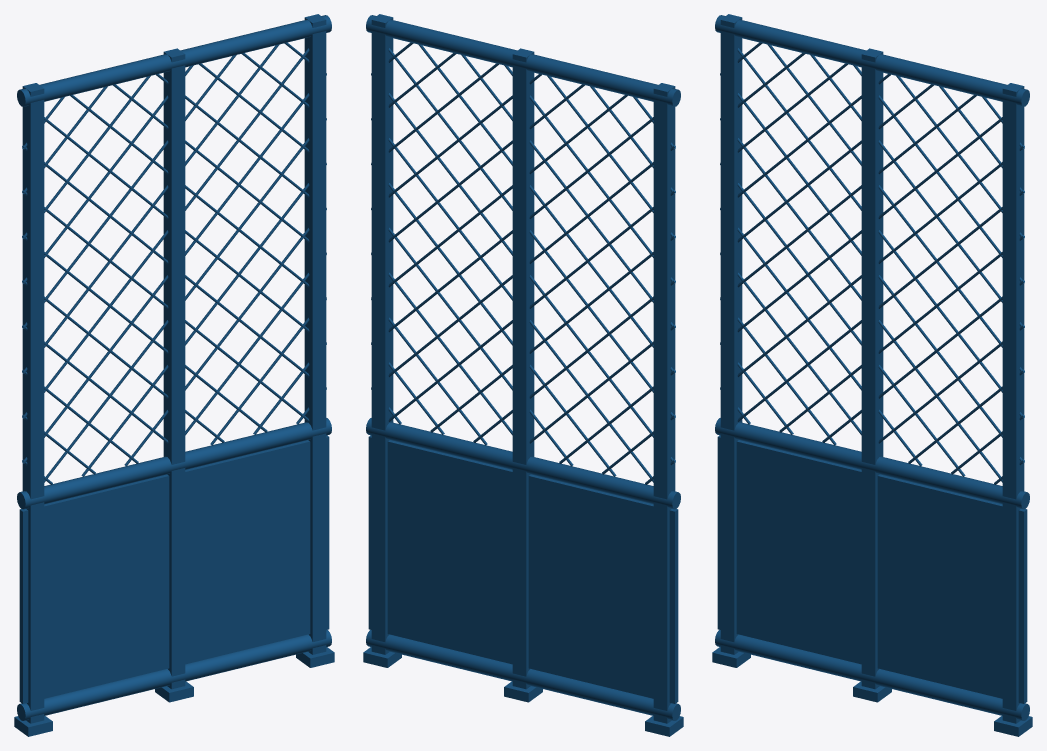
File: fence-steel-blue.glb
The picture shows the model from 3 angles, left to right: view 1: azimuth 30°, elevation 25°; view 2: azimuth 150°, elevation 25°; view 3: azimuth 330°, elevation 25°; orthographic projection.
Visible parts, largest first — view 1: FenceSteelBlue; view 2: FenceSteelBlue; view 3: FenceSteelBlue.
Boxes of the visible parts, x1,y1,x2,y2 form: FenceSteelBlue: (14, 14, 334, 736); FenceSteelBlue: (363, 14, 683, 736); FenceSteelBlue: (712, 14, 1032, 736).
Size of the model in its own units: 1 by 2 by 0.08.
